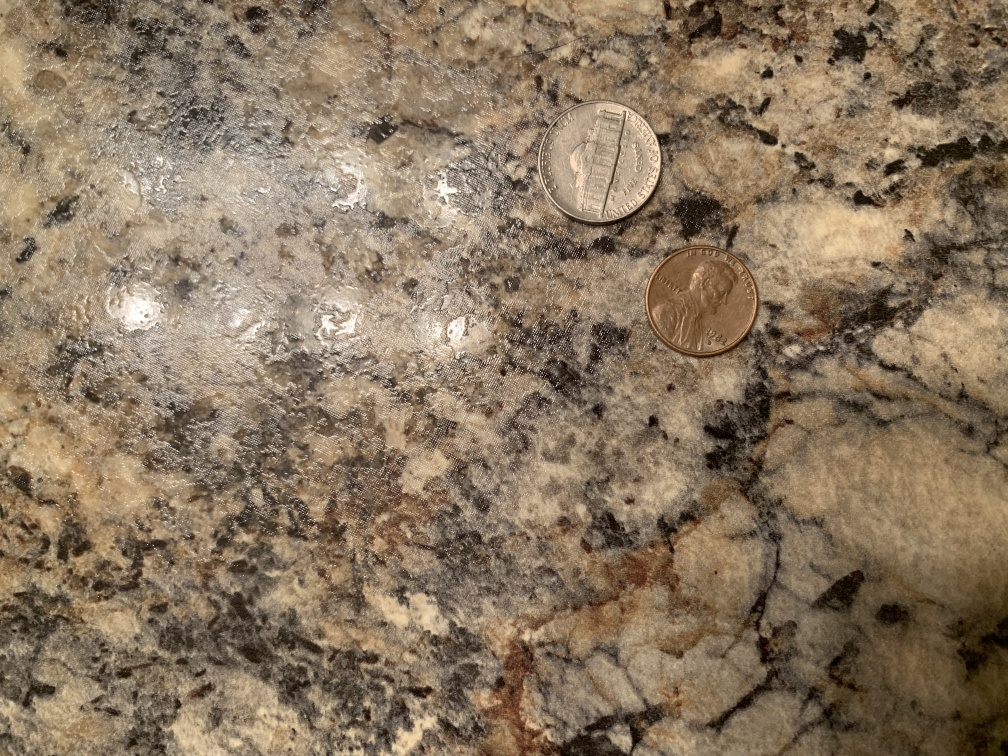nickel: (537, 96, 666, 227)
penny: (643, 242, 761, 362)
